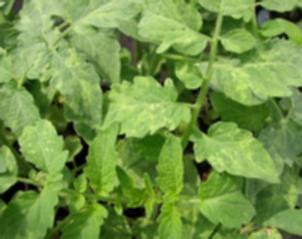Tomato leaf mosaic virus: (79, 73, 190, 137), (208, 37, 302, 104), (190, 121, 283, 186), (68, 19, 127, 90), (51, 50, 104, 127), (0, 181, 66, 239), (137, 3, 206, 58), (195, 175, 261, 231), (17, 115, 69, 186), (85, 120, 126, 197), (156, 130, 188, 199), (264, 204, 302, 239), (157, 201, 186, 239), (220, 29, 256, 55)
